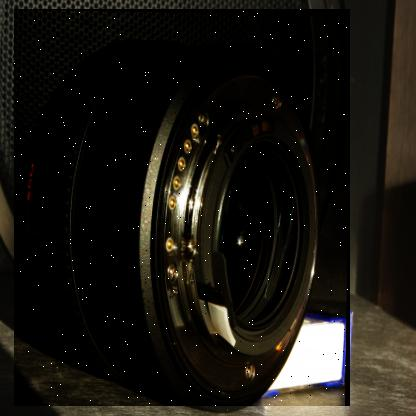Camera: (15, 10, 352, 408)
